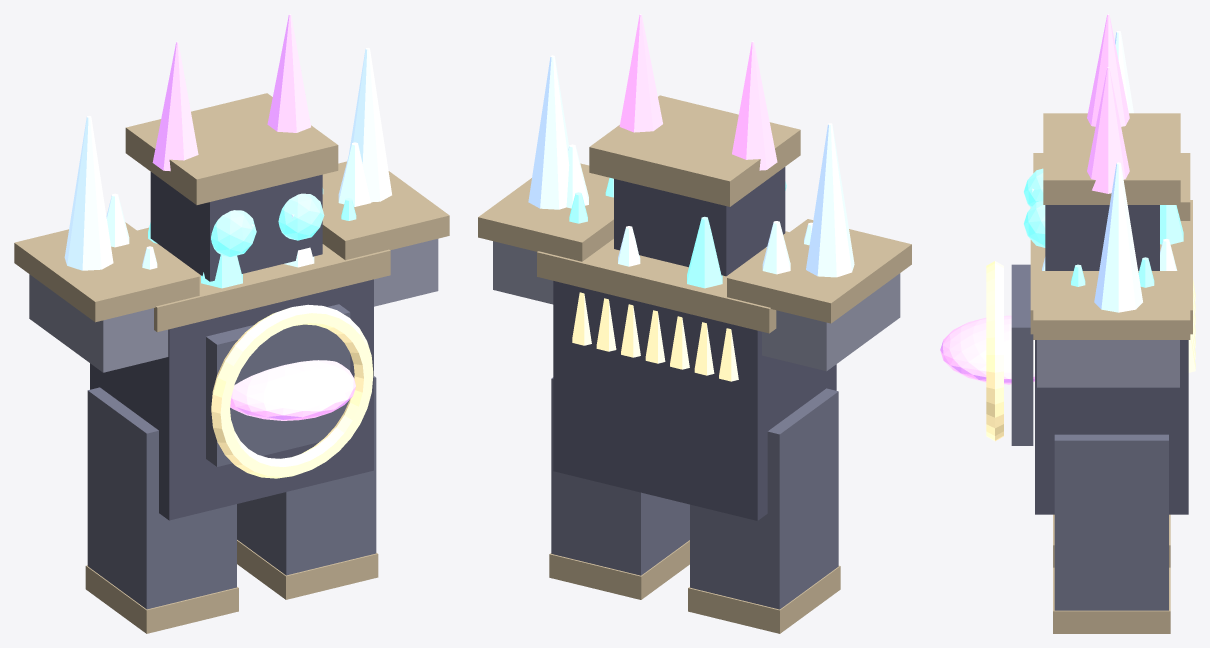
File: ThunderGolem_Ornate_Mobile.glb
The picture shows the model from 3 angles, left to right: view 1: azimuth 30°, elevation 25°; view 2: azimuth 150°, elevation 25°; view 3: azimuth 270°, elevation 25°; orthographic projection. The views are drawn at different scales.
Visible parts, largest first — view 1: WGA_Storm_ThunderGolem_Ornate_Mobile.glb_gold, WGA_Storm_ThunderGolem_Ornate_Mobile.glb_darkstone, WGA_Storm_ThunderGolem_Ornate_Mobile.glb_basalt, WGA_Storm_ThunderGolem_Ornate_Mobile.glb_violet, WGA_Storm_ThunderGolem_Ornate_Mobile.glb_electric, WGA_Storm_ThunderGolem_Ornate_Mobile.glb_slate, WGA_Storm_ThunderGolem_Ornate_Mobile.glb_goldbright, WGA_Storm_ThunderGolem_Ornate_Mobile.glb_cyan; view 2: WGA_Storm_ThunderGolem_Ornate_Mobile.glb_basalt, WGA_Storm_ThunderGolem_Ornate_Mobile.glb_gold, WGA_Storm_ThunderGolem_Ornate_Mobile.glb_darkstone, WGA_Storm_ThunderGolem_Ornate_Mobile.glb_electric, WGA_Storm_ThunderGolem_Ornate_Mobile.glb_slate, WGA_Storm_ThunderGolem_Ornate_Mobile.glb_violet, WGA_Storm_ThunderGolem_Ornate_Mobile.glb_goldbright, WGA_Storm_ThunderGolem_Ornate_Mobile.glb_cyan; view 3: WGA_Storm_ThunderGolem_Ornate_Mobile.glb_darkstone, WGA_Storm_ThunderGolem_Ornate_Mobile.glb_gold, WGA_Storm_ThunderGolem_Ornate_Mobile.glb_basalt, WGA_Storm_ThunderGolem_Ornate_Mobile.glb_violet, WGA_Storm_ThunderGolem_Ornate_Mobile.glb_slate, WGA_Storm_ThunderGolem_Ornate_Mobile.glb_electric, WGA_Storm_ThunderGolem_Ornate_Mobile.glb_goldbright, WGA_Storm_ThunderGolem_Ornate_Mobile.glb_cyan.
Part boxes in pixels (bbox=[...]): WGA_Storm_ThunderGolem_Ornate_Mobile.glb_gold: bbox=[14, 93, 449, 633]; WGA_Storm_ThunderGolem_Ornate_Mobile.glb_darkstone: bbox=[87, 304, 376, 609]; WGA_Storm_ThunderGolem_Ornate_Mobile.glb_basalt: bbox=[90, 172, 373, 520]; WGA_Storm_ThunderGolem_Ornate_Mobile.glb_violet: bbox=[152, 14, 355, 420]; WGA_Storm_ThunderGolem_Ornate_Mobile.glb_electric: bbox=[64, 48, 391, 270]; WGA_Storm_ThunderGolem_Ornate_Mobile.glb_slate: bbox=[29, 239, 438, 372]; WGA_Storm_ThunderGolem_Ornate_Mobile.glb_goldbright: bbox=[211, 304, 373, 478]; WGA_Storm_ThunderGolem_Ornate_Mobile.glb_cyan: bbox=[148, 188, 356, 288]; WGA_Storm_ThunderGolem_Ornate_Mobile.glb_basalt: bbox=[553, 167, 836, 520]; WGA_Storm_ThunderGolem_Ornate_Mobile.glb_gold: bbox=[478, 95, 911, 633]; WGA_Storm_ThunderGolem_Ornate_Mobile.glb_darkstone: bbox=[551, 377, 838, 609]; WGA_Storm_ThunderGolem_Ornate_Mobile.glb_electric: bbox=[528, 55, 854, 277]; WGA_Storm_ThunderGolem_Ornate_Mobile.glb_slate: bbox=[493, 241, 900, 371]; WGA_Storm_ThunderGolem_Ornate_Mobile.glb_violet: bbox=[619, 14, 777, 170]; WGA_Storm_ThunderGolem_Ornate_Mobile.glb_goldbright: bbox=[572, 292, 738, 381]; WGA_Storm_ThunderGolem_Ornate_Mobile.glb_cyan: bbox=[569, 177, 786, 288]; WGA_Storm_ThunderGolem_Ornate_Mobile.glb_darkstone: bbox=[1011, 264, 1168, 610]; WGA_Storm_ThunderGolem_Ornate_Mobile.glb_gold: bbox=[1030, 113, 1192, 633]; WGA_Storm_ThunderGolem_Ornate_Mobile.glb_basalt: bbox=[1035, 205, 1188, 514]; WGA_Storm_ThunderGolem_Ornate_Mobile.glb_violet: bbox=[940, 14, 1129, 384]; WGA_Storm_ThunderGolem_Ornate_Mobile.glb_slate: bbox=[1037, 340, 1179, 387]; WGA_Storm_ThunderGolem_Ornate_Mobile.glb_electric: bbox=[1032, 31, 1177, 312]; WGA_Storm_ThunderGolem_Ornate_Mobile.glb_goldbright: bbox=[986, 261, 1195, 441]; WGA_Storm_ThunderGolem_Ornate_Mobile.glb_cyan: bbox=[1024, 168, 1183, 287].
Size of the model in its own units: 3.46 by 5.19 by 2.23.
